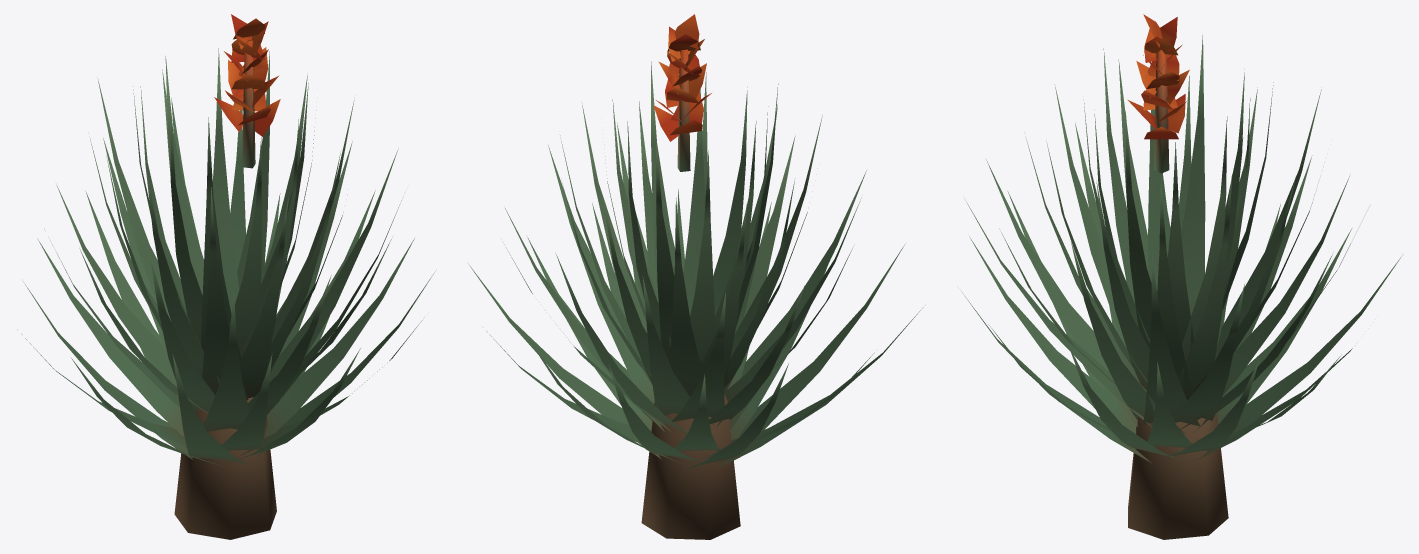
Rendered from aloe_flower.glb.
3 views of the same model, side by side, from view 1: azimuth 30°, elevation 25°; view 2: azimuth 150°, elevation 25°; view 3: azimuth 270°, elevation 25° (orthographic). The views are drawn at different scales.
Visible parts, largest first — view 1: aloe_flower; view 2: aloe_flower; view 3: aloe_flower.
Part boxes in pixels (x1,y1,x2,y2): aloe_flower: [17, 14, 435, 539]; aloe_flower: [469, 14, 923, 539]; aloe_flower: [961, 14, 1402, 539].
Bounding box in the file's own units: 1.29 × 1.6 × 1.27.
